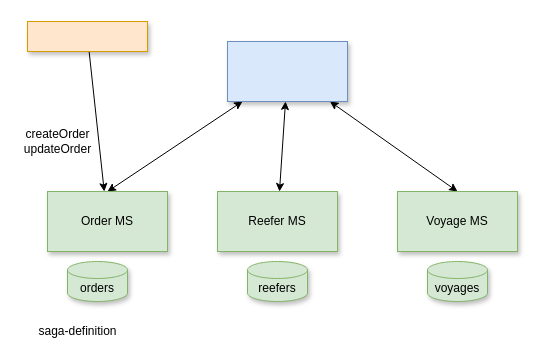
This 541x359 diagram has some shape labels left out. Each missing label, with the centre of its shape:
LRA Coordinator: (x=288, y=72)
User Interface: (x=88, y=37)
